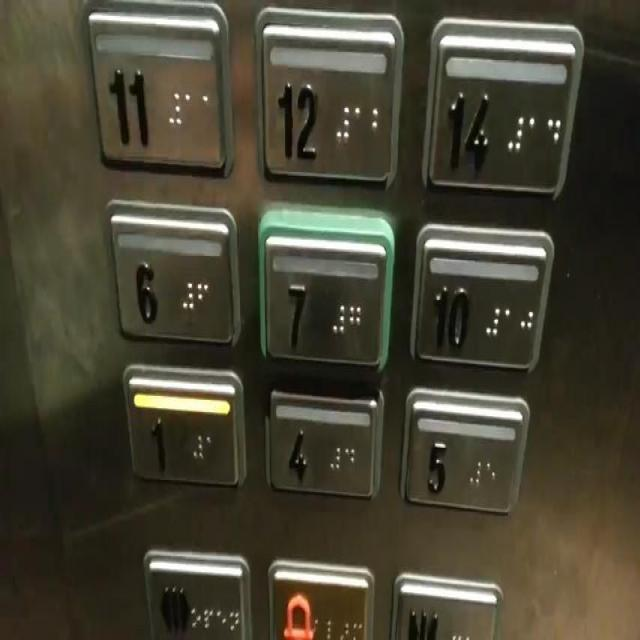1: (121, 362, 246, 494)
10: (409, 221, 553, 372)
11: (81, 0, 234, 177)
12: (254, 1, 406, 188)
14: (421, 15, 583, 201)
4: (264, 378, 386, 502)
5: (396, 386, 529, 514)
6: (102, 197, 243, 352)
7: (257, 203, 393, 373)
alarm: (264, 548, 376, 639)
open: (141, 542, 255, 638)
